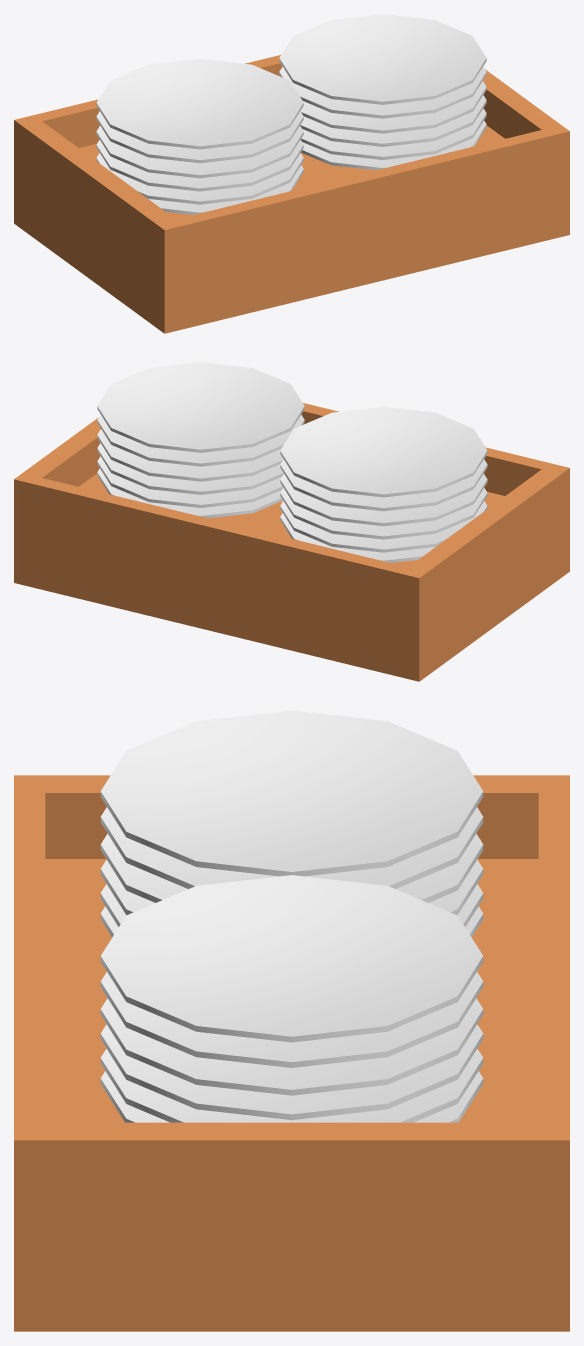
The model's file is Map02_Decor_Thunggiay_02.fbx.
3 views of the same model, one above another, from view 1: azimuth 30°, elevation 25°; view 2: azimuth 150°, elevation 25°; view 3: azimuth 270°, elevation 25° (orthographic). The views are drawn at different scales.
Parts seen in each view (by area): view 1: Map02_Decor; view 2: Map02_Decor; view 3: Map02_Decor.
Boxes of the visible parts, <box> form: Map02_Decor: <box>14,14,569,333</box>; Map02_Decor: <box>14,362,569,681</box>; Map02_Decor: <box>14,710,569,1331</box>.
Bounding box in the file's own units: 270 × 95.02 × 174.
